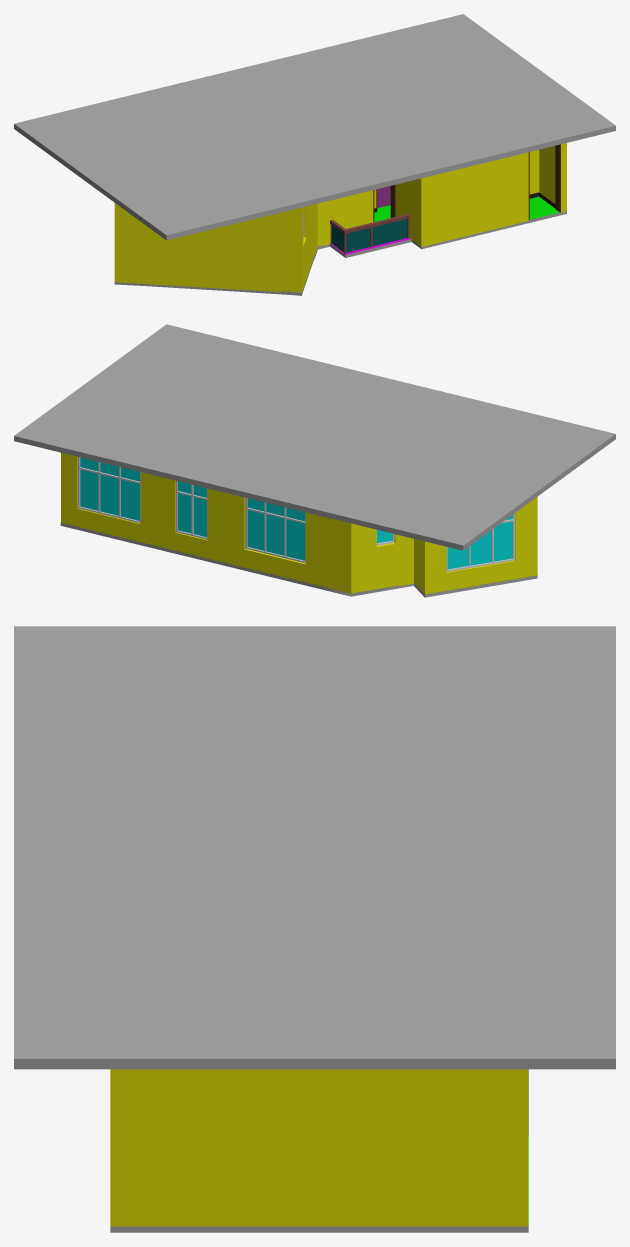
The model's file is Wing_B_Flat_No_01_Type01MatID.fbx.
3 views of the same model, one above another, from view 1: azimuth 30°, elevation 25°; view 2: azimuth 150°, elevation 25°; view 3: azimuth 270°, elevation 25° (orthographic). The views are drawn at different scales.
Visible parts, largest first — view 1: Roof1, wall, Floor1, Flat_No_03_celling__DoorFrame_Skerting:Glass2, Flat_No_03_celling__DoorFrame_Skerting:pCube2, Flat_No_03_celling__DoorFrame_Skerting:Balcony_Railing_01; view 2: Roof1, wall, Flat_No_03_celling__DoorFrame_Skerting:Glass1 (×4), Flat_No_03_celling__DoorFrame_Skerting:Window_Frame (×4), Floor1; view 3: Roof1, wall, Floor1.
Part boxes in pixels (left/top/right/bottom): Roof1: left=14, top=14, right=615, bottom=240; wall: left=114, top=143, right=566, bottom=292; Floor1: left=114, top=186, right=566, bottom=295; Flat_No_03_celling__DoorFrame_Skerting:Glass2: left=332, top=219, right=407, bottom=252; Flat_No_03_celling__DoorFrame_Skerting:pCube2: left=528, top=144, right=560, bottom=219; Flat_No_03_celling__DoorFrame_Skerting:Balcony_Railing_01: left=330, top=214, right=410, bottom=233; Roof1: left=14, top=324, right=615, bottom=550; wall: left=61, top=452, right=537, bottom=594; Flat_No_03_celling__DoorFrame_Skerting:Glass1 (×4): left=80, top=457, right=512, bottom=569; Flat_No_03_celling__DoorFrame_Skerting:Window_Frame (×4): left=78, top=457, right=514, bottom=571; Floor1: left=60, top=523, right=537, bottom=597; Roof1: left=14, top=626, right=615, bottom=1069; wall: left=110, top=1069, right=528, bottom=1226; Floor1: left=110, top=1069, right=528, bottom=1232.
Bounding box in the file's own units: 1508 × 322 × 886.
